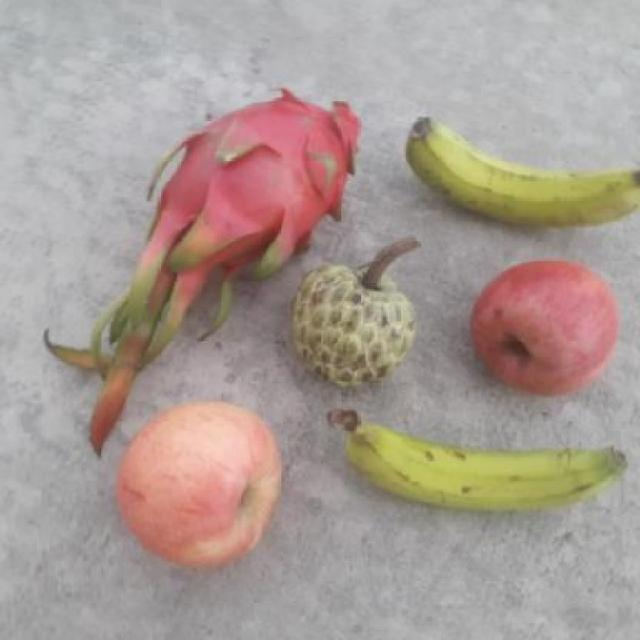apple: (107, 396, 288, 578), (466, 253, 620, 405)
banana: (320, 404, 640, 510), (399, 111, 639, 234)
dragon fruit: (148, 81, 367, 282)
sugar apple: (282, 237, 426, 391)
